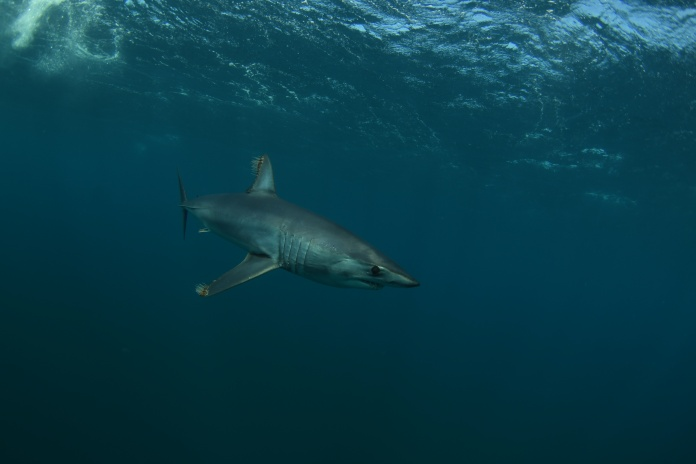Mako: (146, 147, 423, 312)
